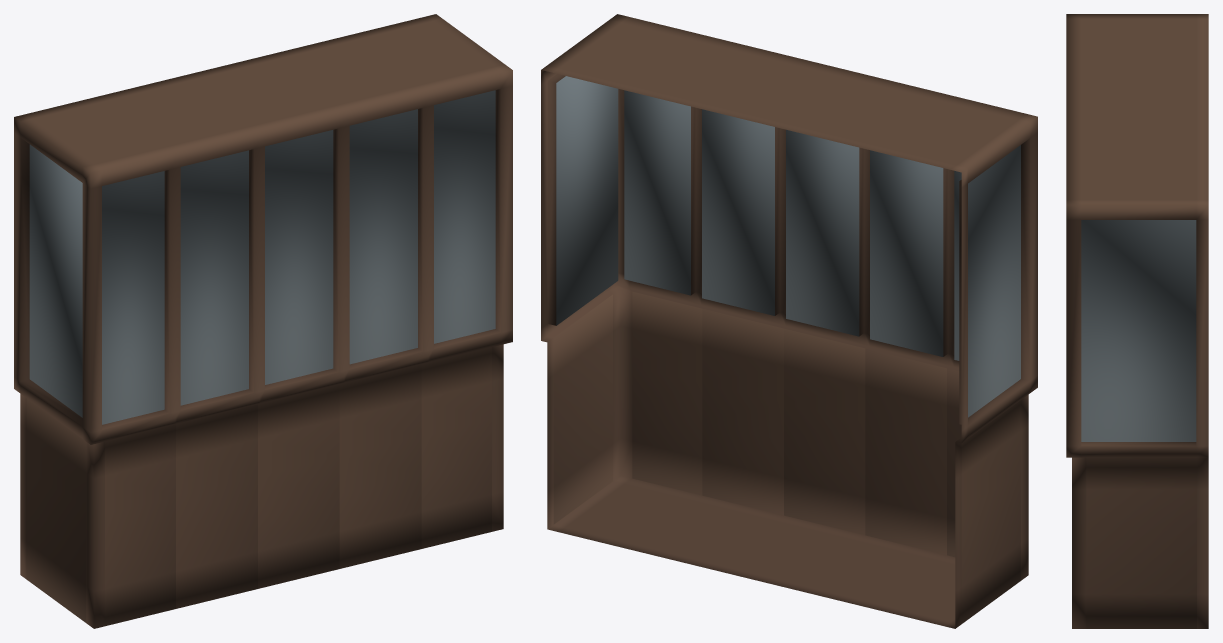
Rendered from The balcony is closed 1.fbx.
The picture shows the model from 3 angles, left to right: view 1: azimuth 30°, elevation 25°; view 2: azimuth 150°, elevation 25°; view 3: azimuth 270°, elevation 25°; orthographic projection. The views are drawn at different scales.
Visible parts, largest first — view 1: Cube.090; view 2: Cube.090; view 3: Cube.090.
Part boxes in pixels (x1,y1,x2,y2): Cube.090: (14,14,512,628); Cube.090: (541,14,1037,628); Cube.090: (1066,14,1208,628).
Size of the model in its own units: 702 by 730 by 221.
